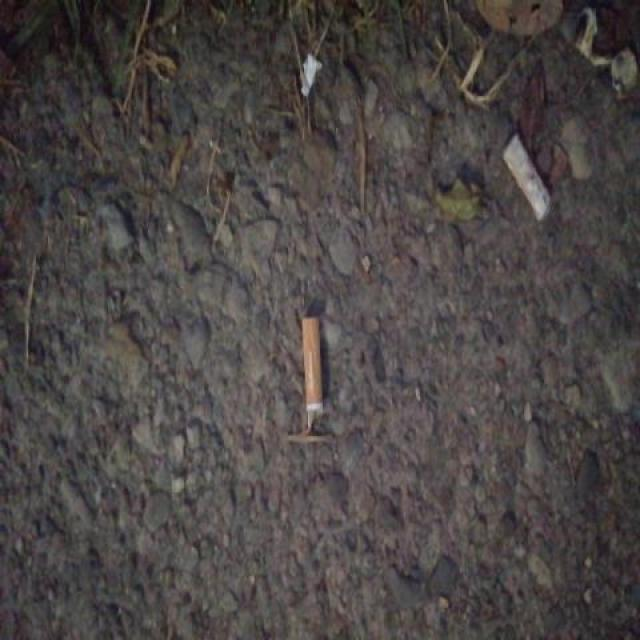non-organic waste: (499, 127, 557, 225), (299, 312, 328, 433)
